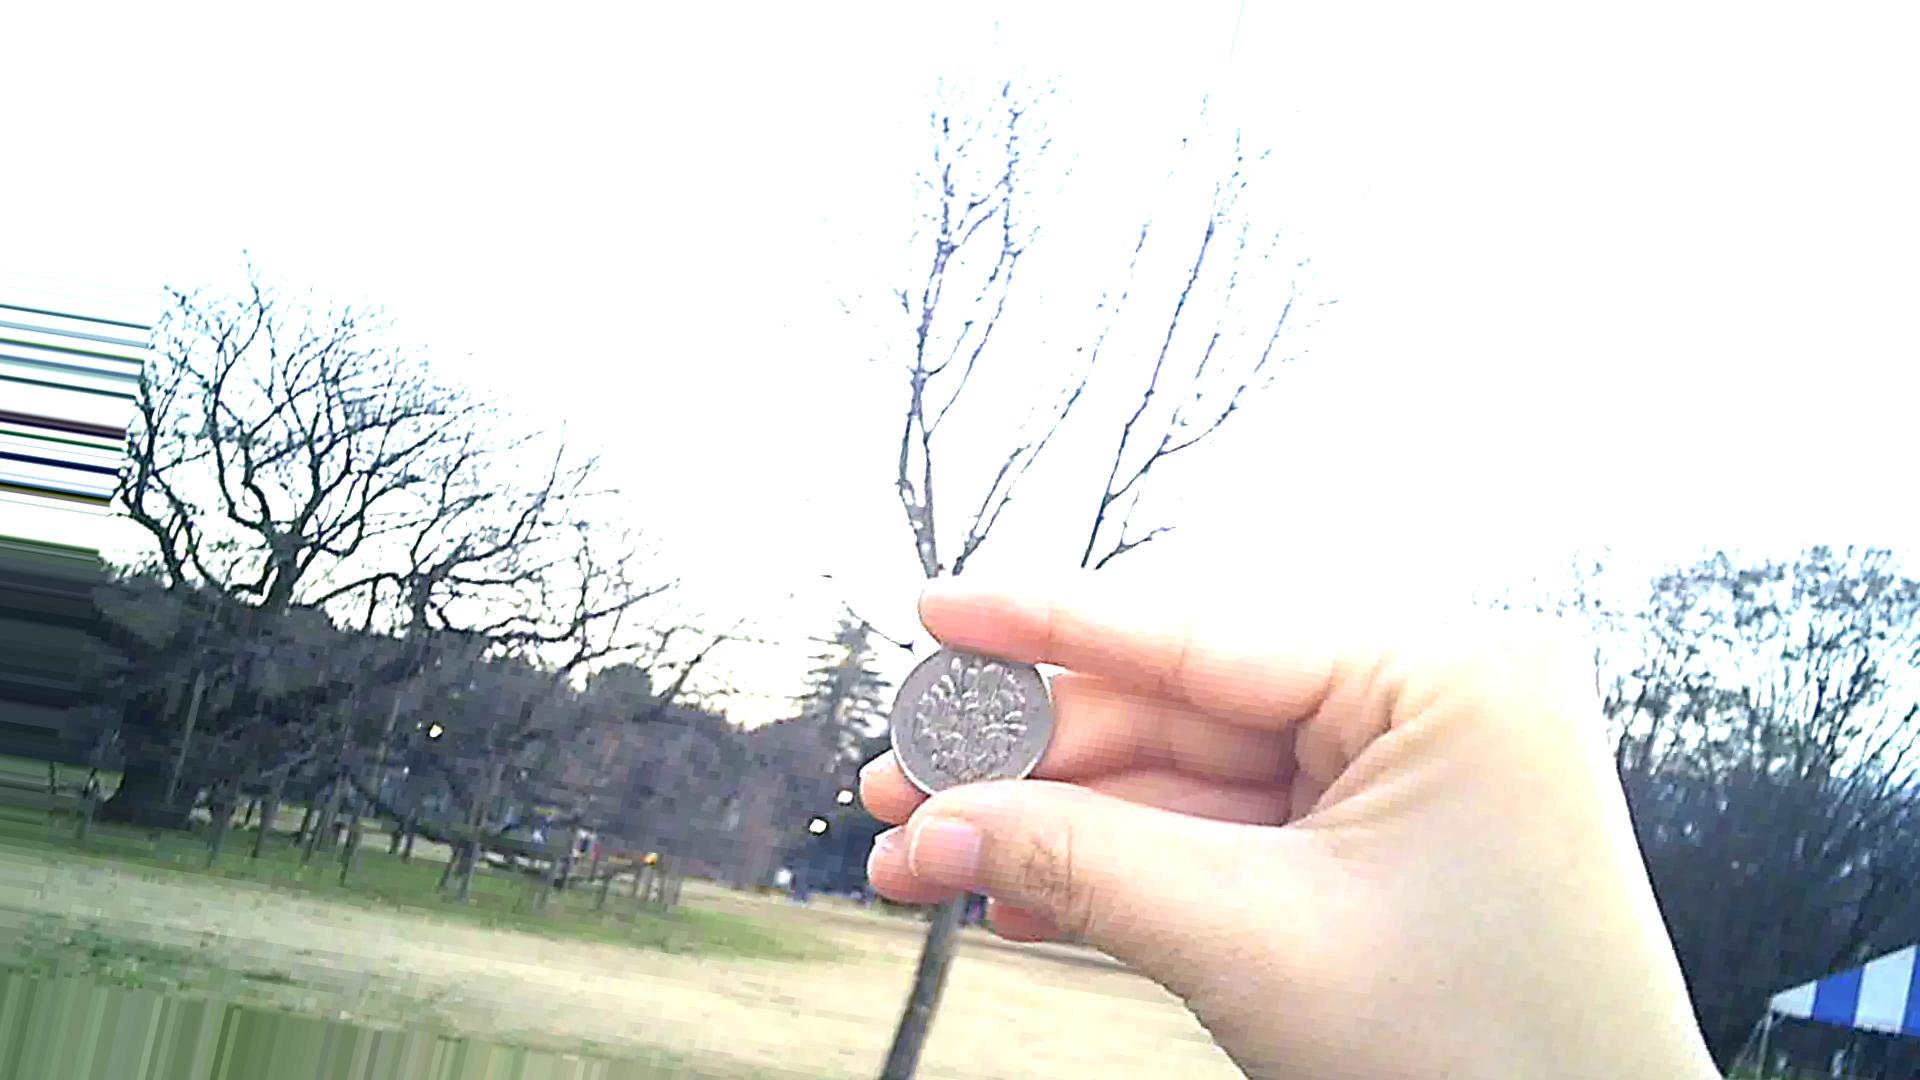100 Yen: (884, 638, 1055, 804)
